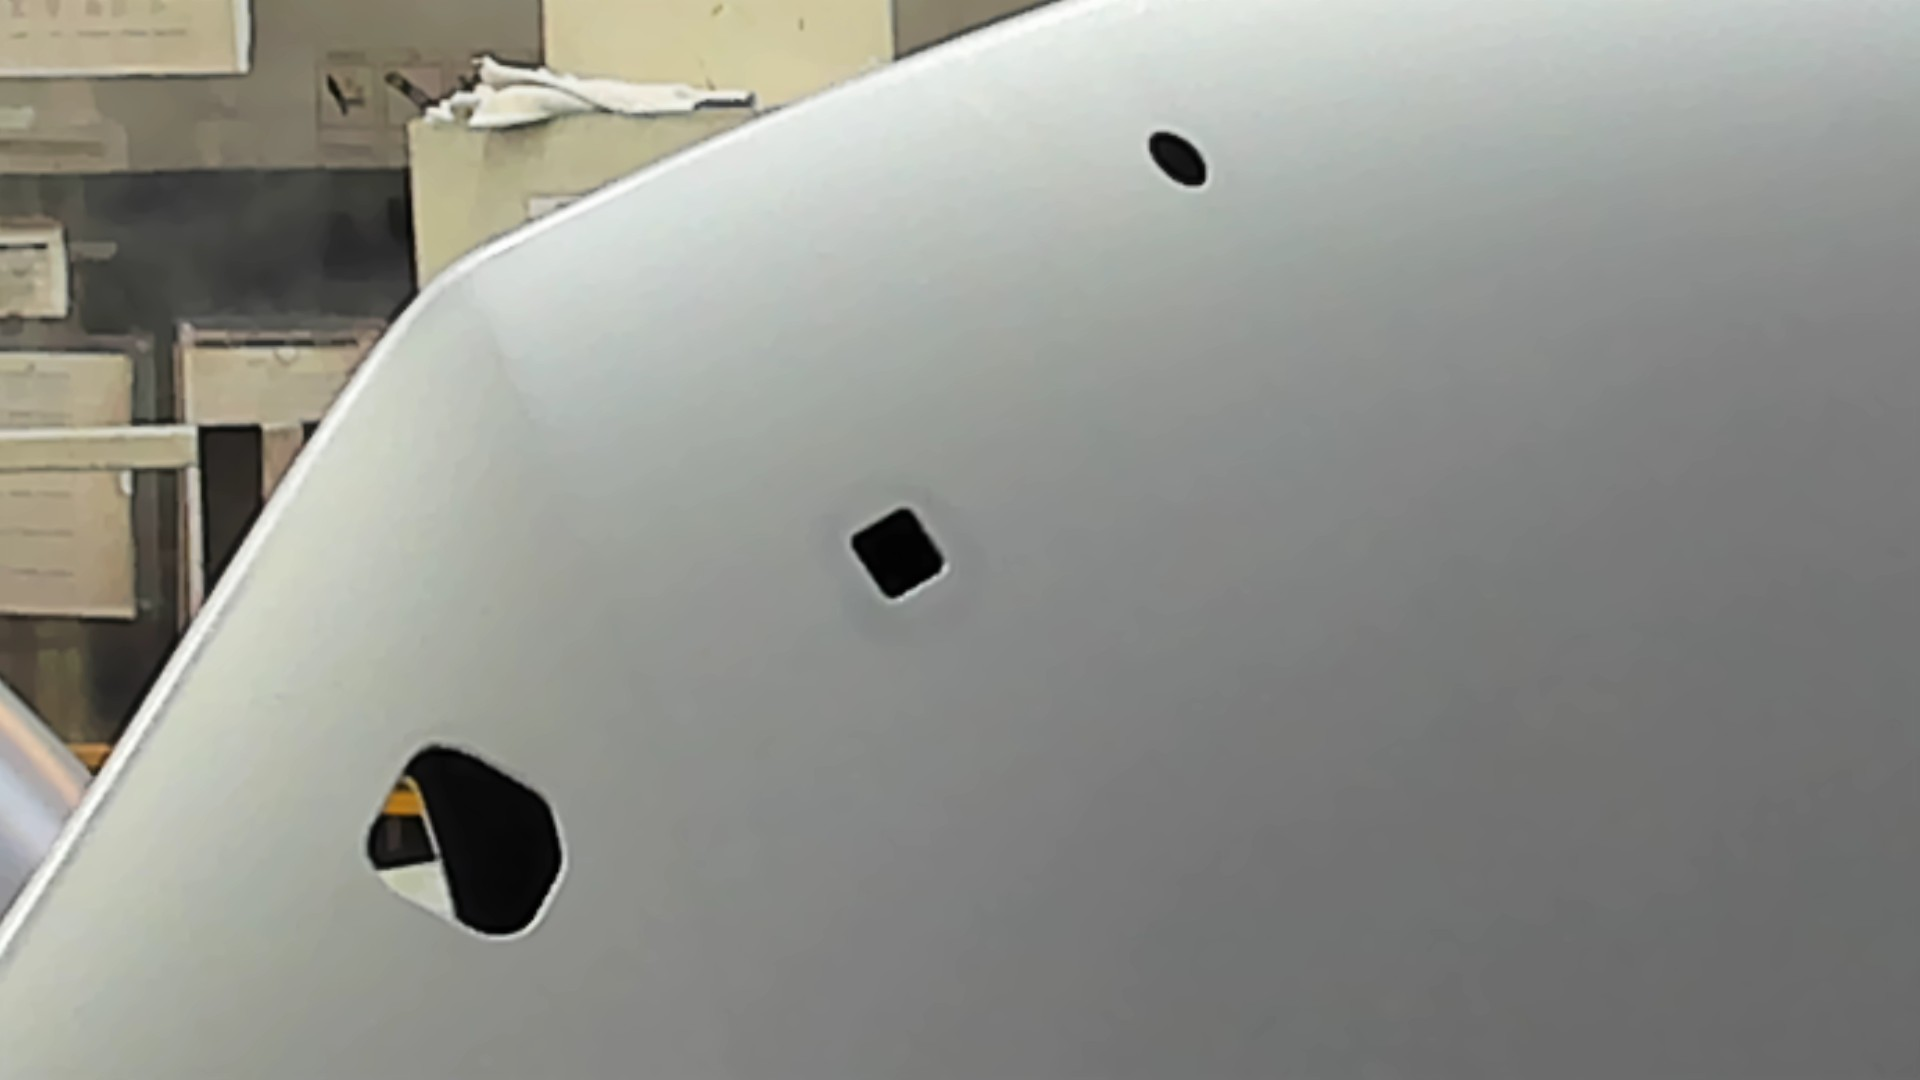chico: (1141, 123, 1222, 196)
grande: (363, 736, 571, 945)
mediano: (843, 497, 956, 611)
